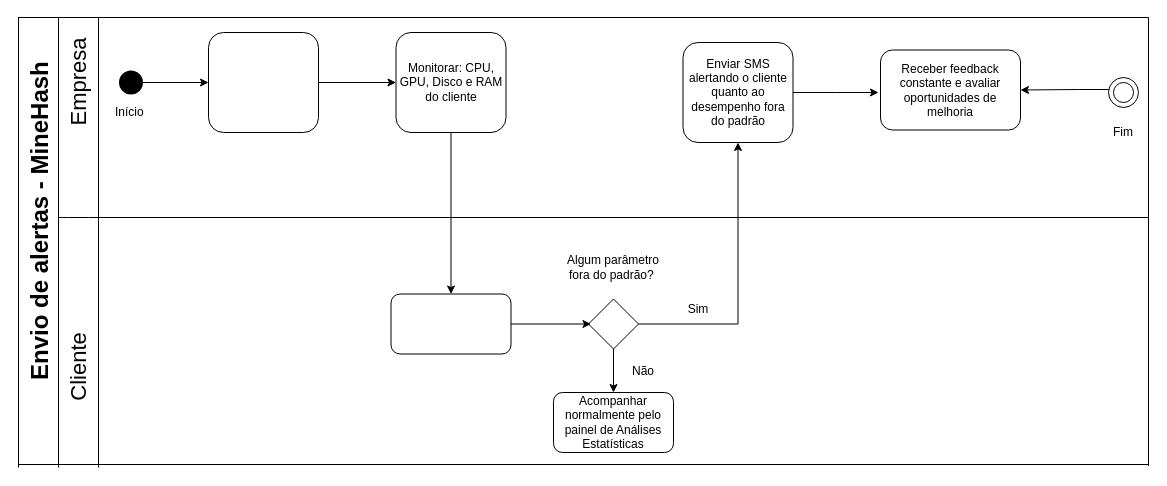
This 1167x486 diagram has some shape labels left out. Here are the shapes that lost their labels. From the top down, the box of each, then its label:
(208, 32, 318, 132): Fazer o monitoramento do computador do cliente que contratou a solução
(390, 293, 511, 354): Acompanhar o monitoramento mediante Análises estatísticas
